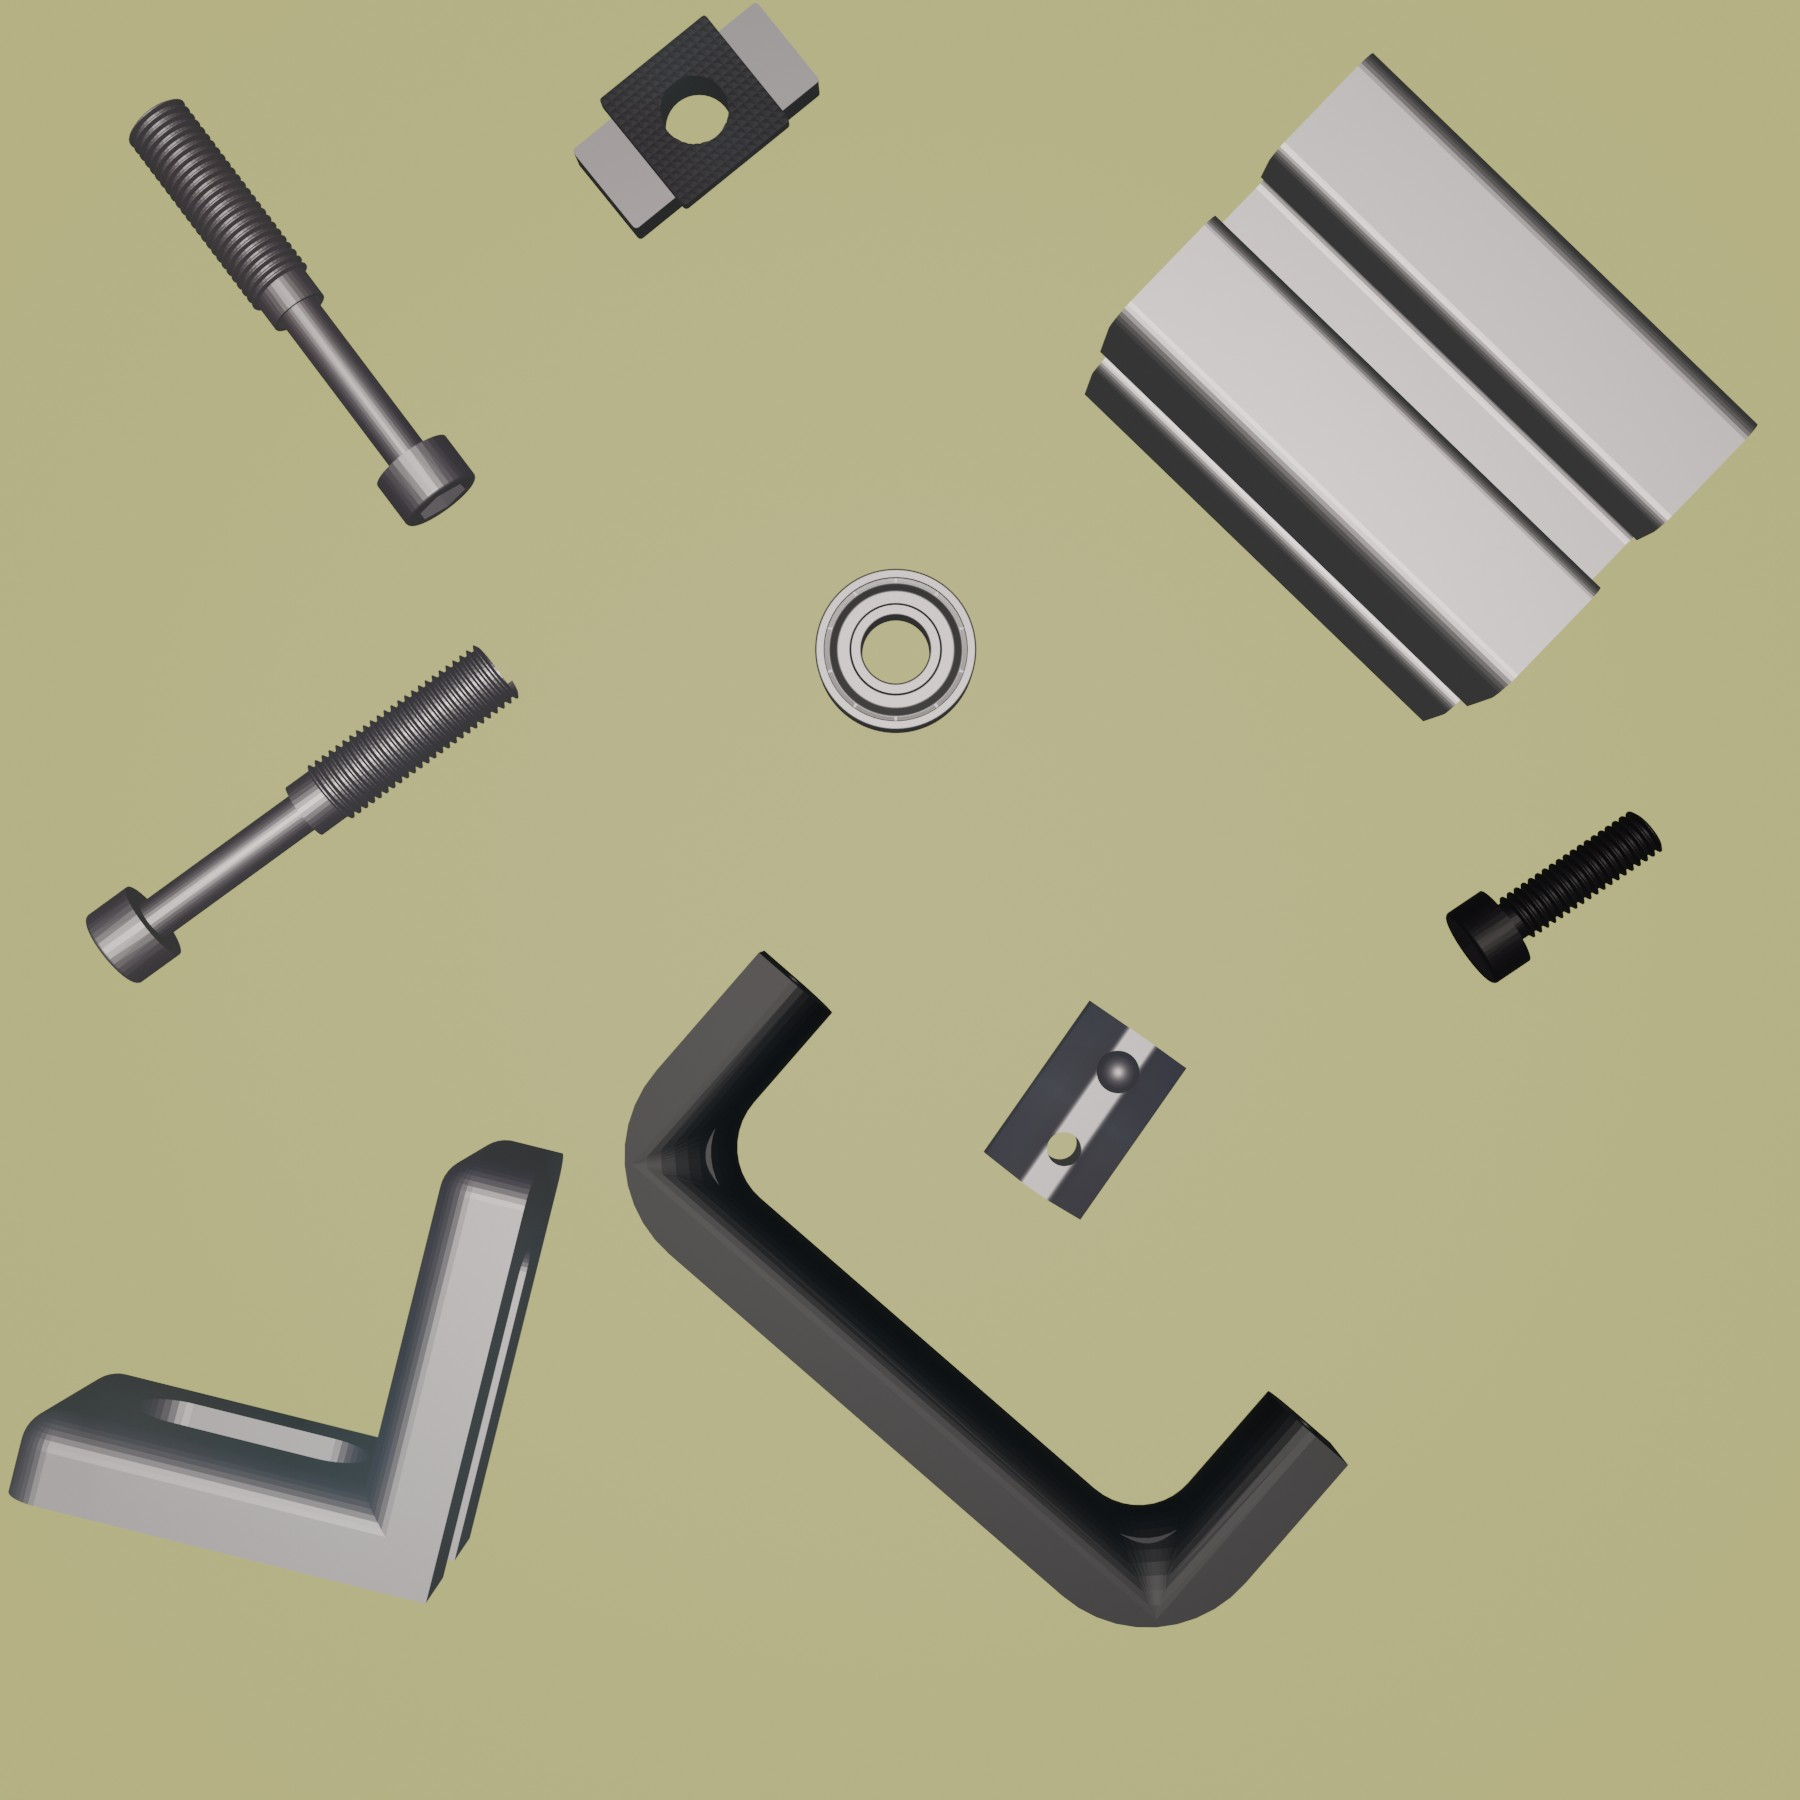Aluminium Extension: (1086, 49, 1759, 724)
Ball Bearing: (813, 565, 979, 734)
Multiwinkel: (8, 1137, 567, 1604)
Pull Handle: (623, 945, 1347, 1629)
Shoulder Socket Head Cap Screw: (125, 96, 478, 531), (86, 640, 519, 982)
Socket Head Cap Screw: (1442, 804, 1665, 986)
T Nut Square: (570, 2, 821, 242)
T Spring Nut: (982, 999, 1190, 1221)
